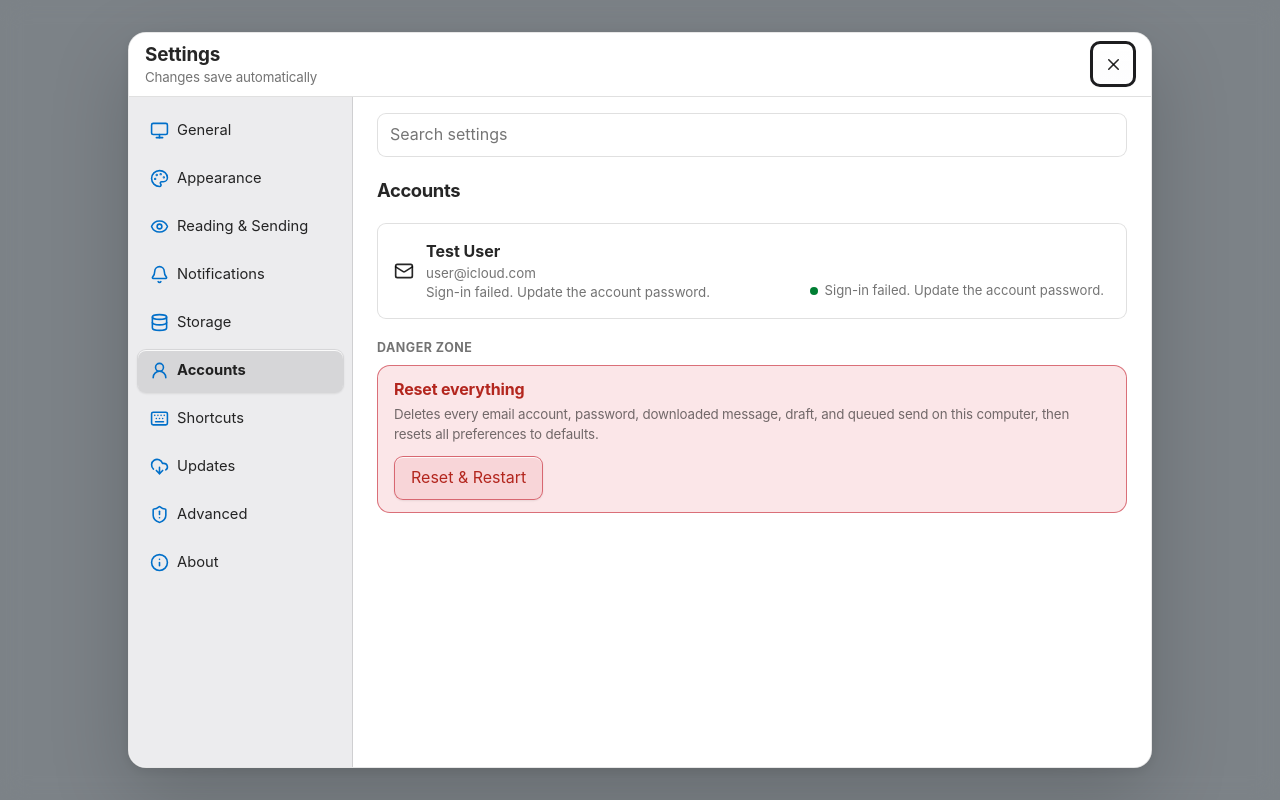
Test: SettingsDialog component › surfaces sign-in errors with a password update form
Click the button with aria-label "Manage Test User" at (463, 251), box [377,223,1127,319]
(page scrolled)
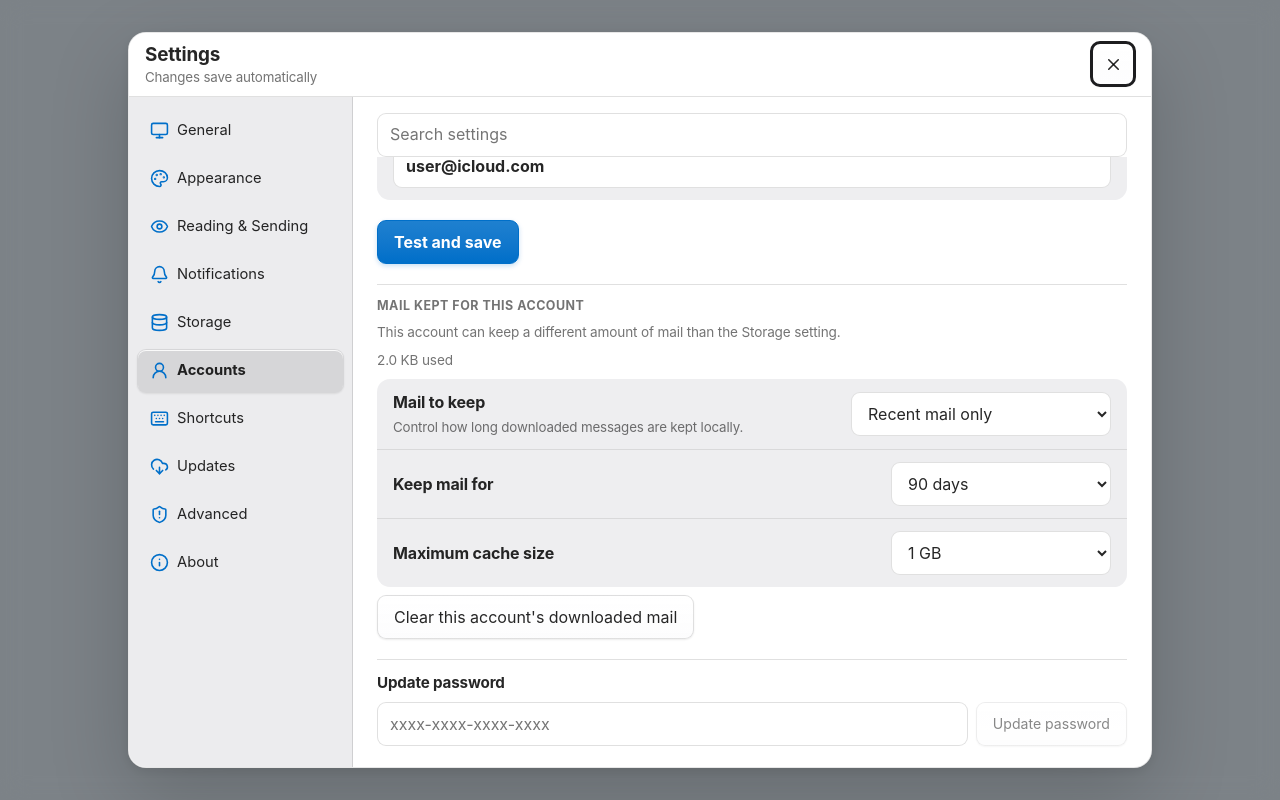
Type "new-app-password" into the password field labelled "Update password" at (672, 724), box [377,702,968,746]
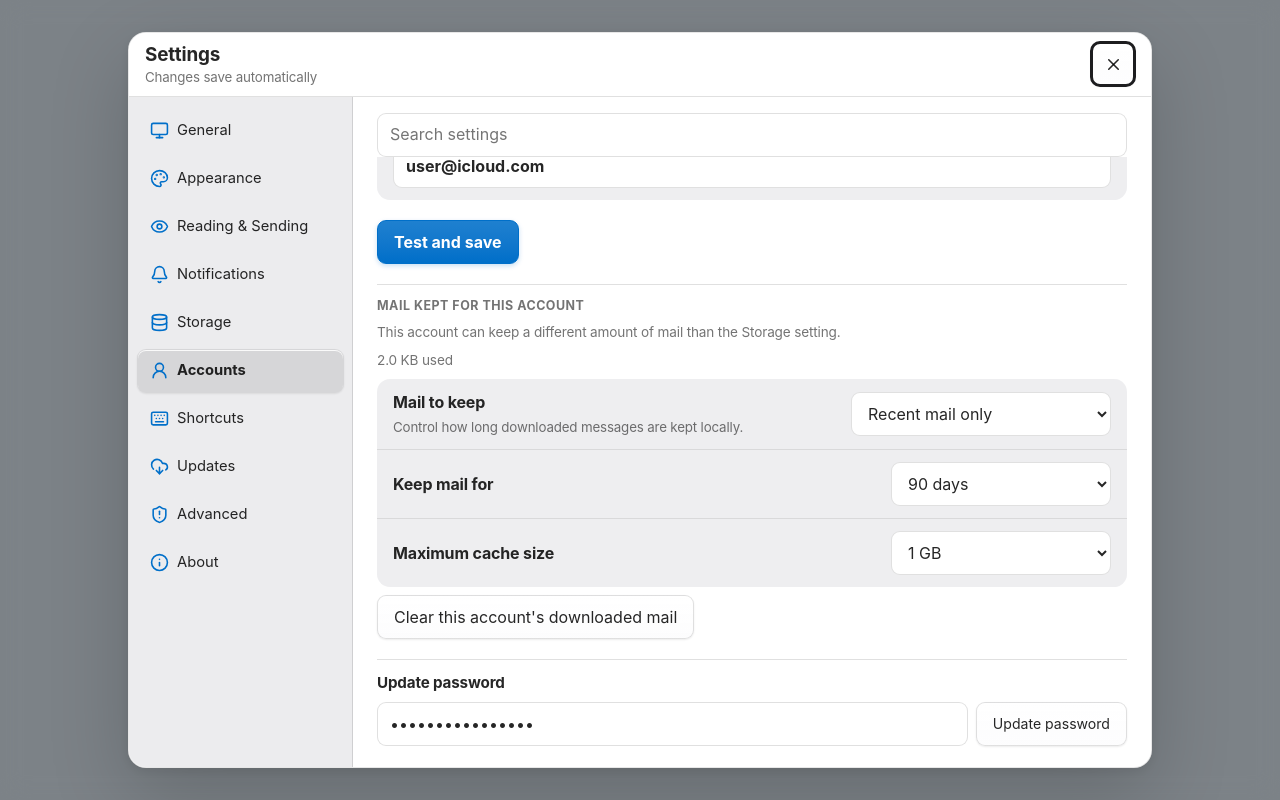
Click the button "Update password" at (1051, 724), box [976,702,1127,746]
(page scrolled)
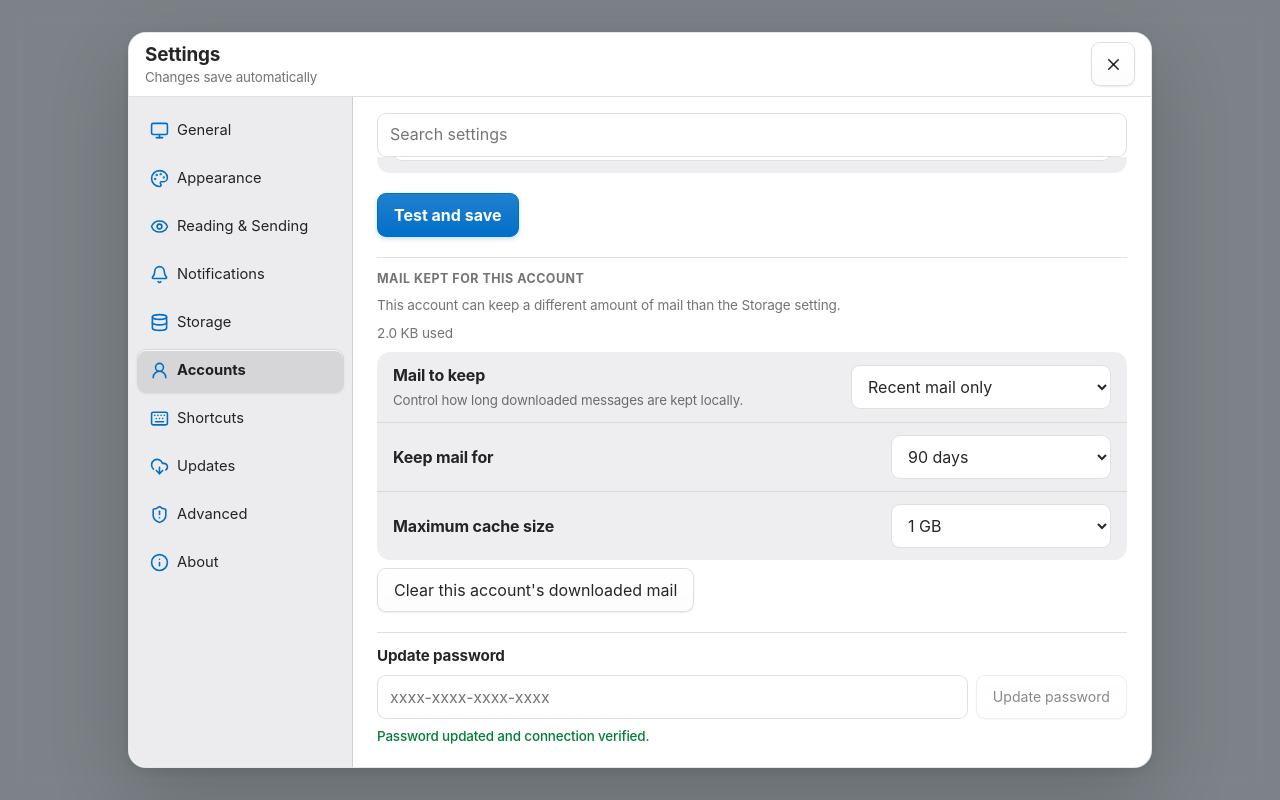
Expected: the text "Password updated and connection verified." is shown, [377,728,649,744]
